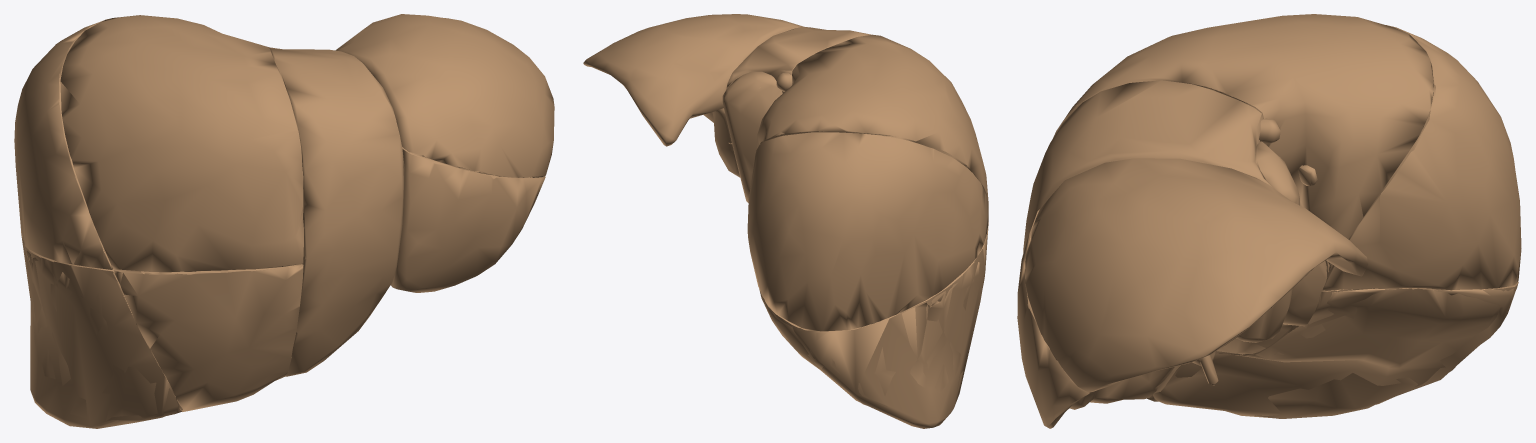
File: liver.glb
The picture shows the model from 3 angles, left to right: view 1: azimuth 30°, elevation 25°; view 2: azimuth 150°, elevation 25°; view 3: azimuth 270°, elevation 25°; orthographic projection. The views are drawn at different scales.
Parts seen in each view (by area): view 1: liver; view 2: liver; view 3: liver.
Part boxes in pixels (x1,y1,x2,y2): liver: (14, 14, 554, 428); liver: (583, 14, 988, 428); liver: (1017, 14, 1521, 428).
Bounding box in the file's own units: 0.2091 × 0.155 × 0.1589.
